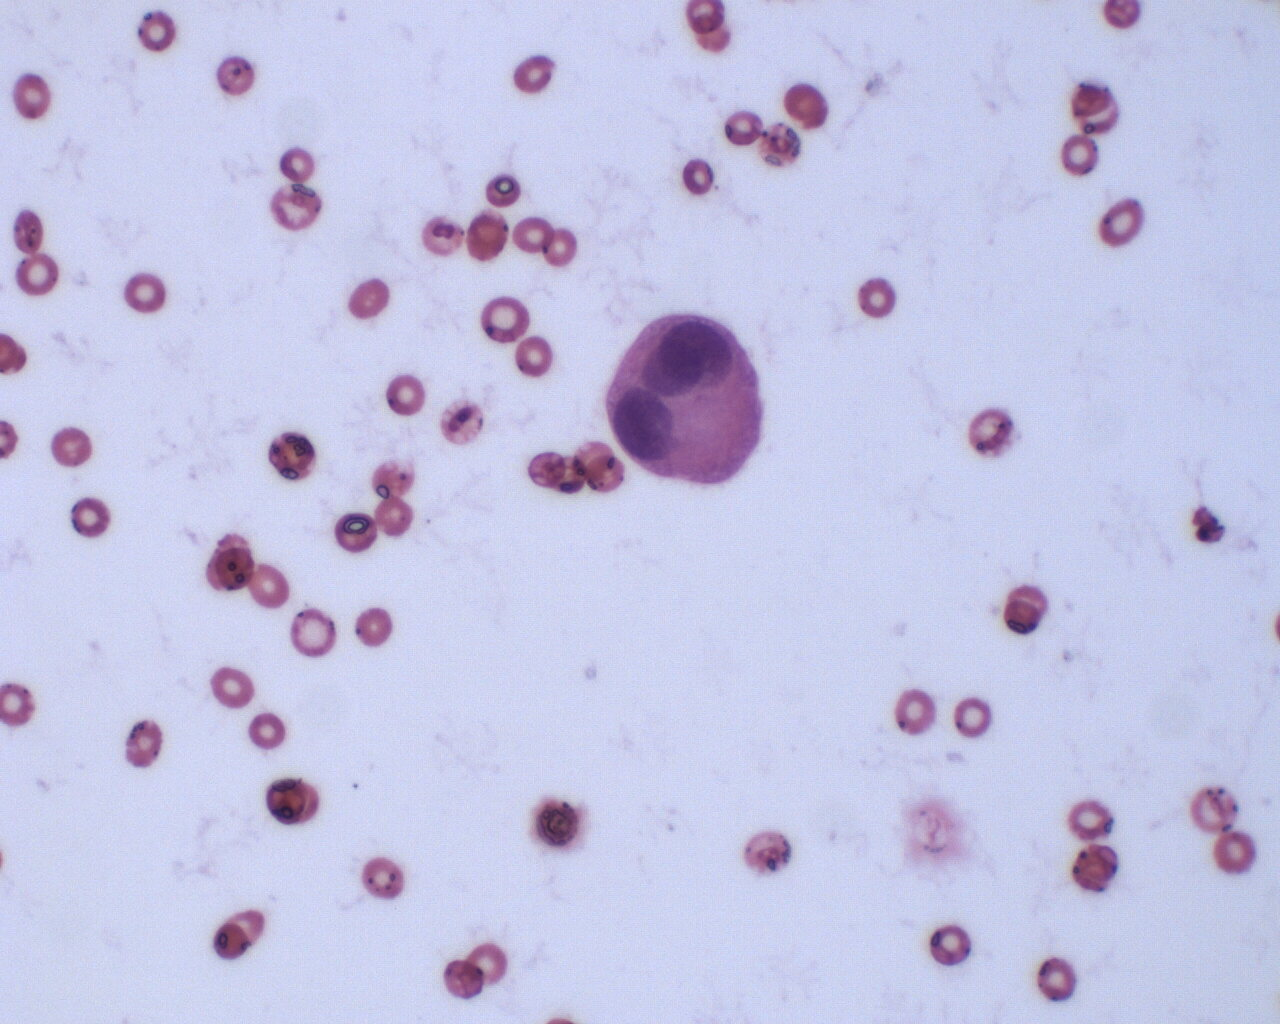meso: (603, 310, 775, 496)
